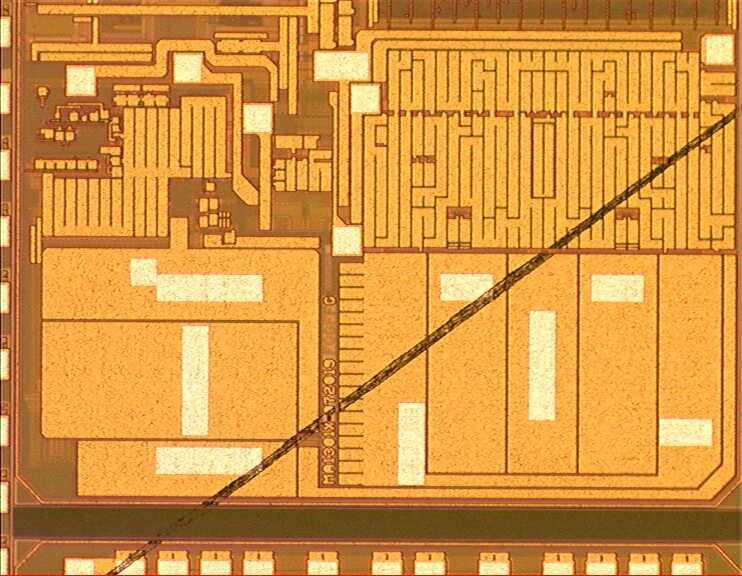SCRATCH: (105, 102, 742, 576)
